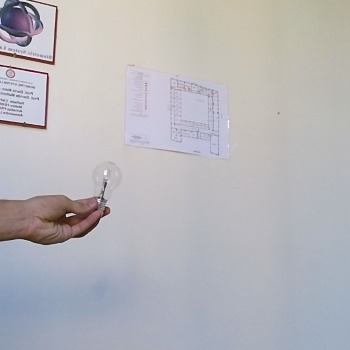hand: (2, 197, 100, 243)
